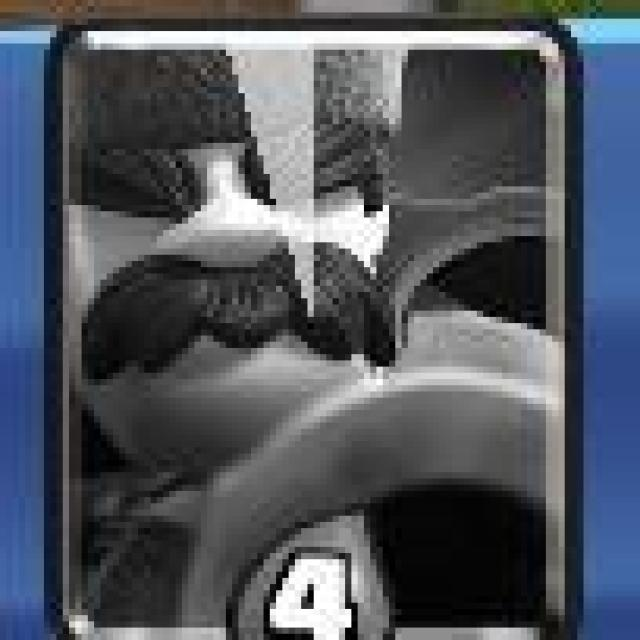Hunter: (42, 16, 580, 640)
